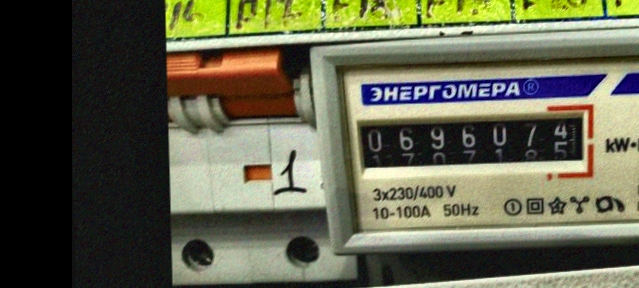0: (365, 126, 384, 152), (491, 120, 507, 146)
4: (553, 117, 567, 139)
5: (553, 139, 568, 159)
6: (396, 124, 415, 150), (460, 121, 477, 148)
7: (522, 120, 538, 147)
9: (428, 124, 446, 150)
screen: (350, 101, 598, 184)
